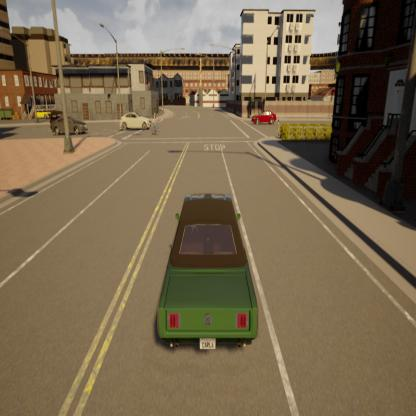Cars: (154, 192, 259, 352), (51, 113, 88, 134), (120, 108, 153, 130), (251, 108, 277, 124), (148, 108, 160, 136)
Pedestrian: (275, 116, 281, 140)
